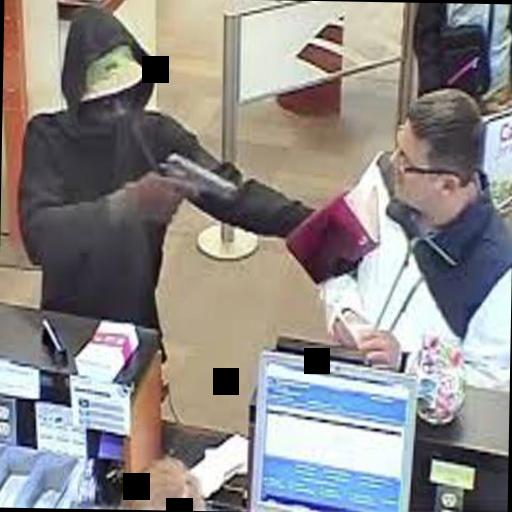Handgun: (134, 138, 240, 225)
